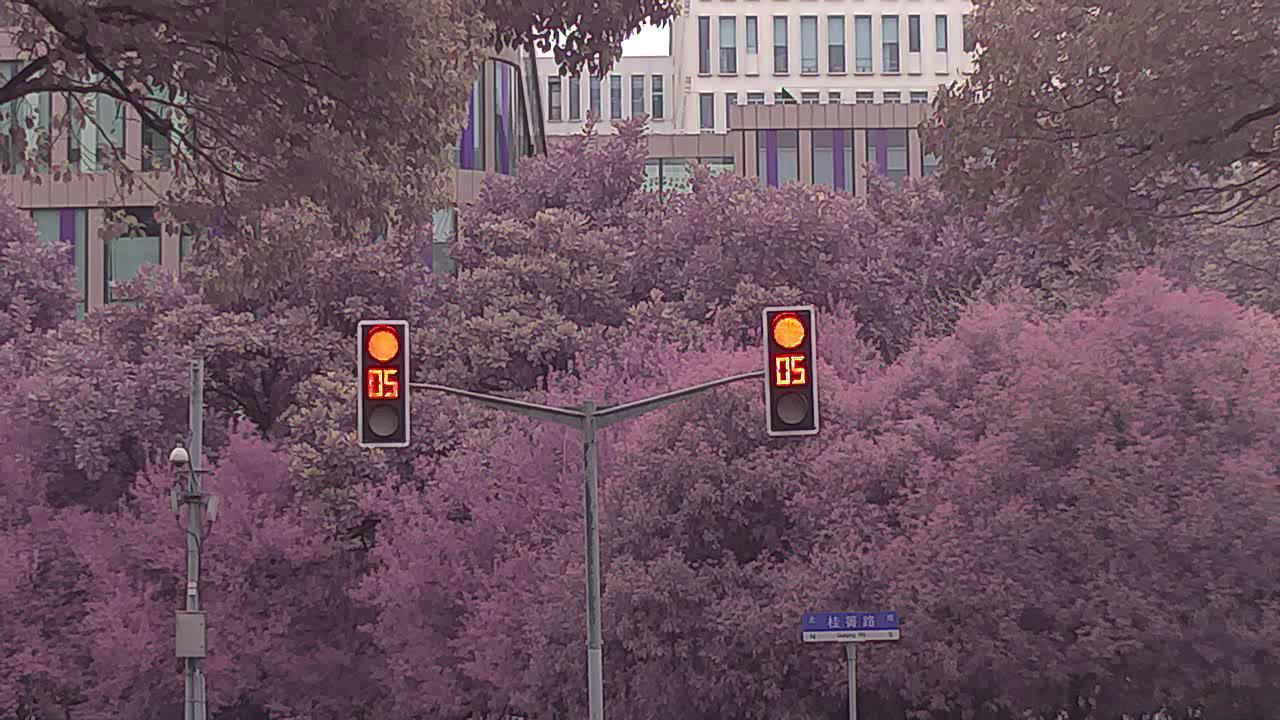traffic_light: (765, 306, 822, 441), (359, 323, 410, 442)
